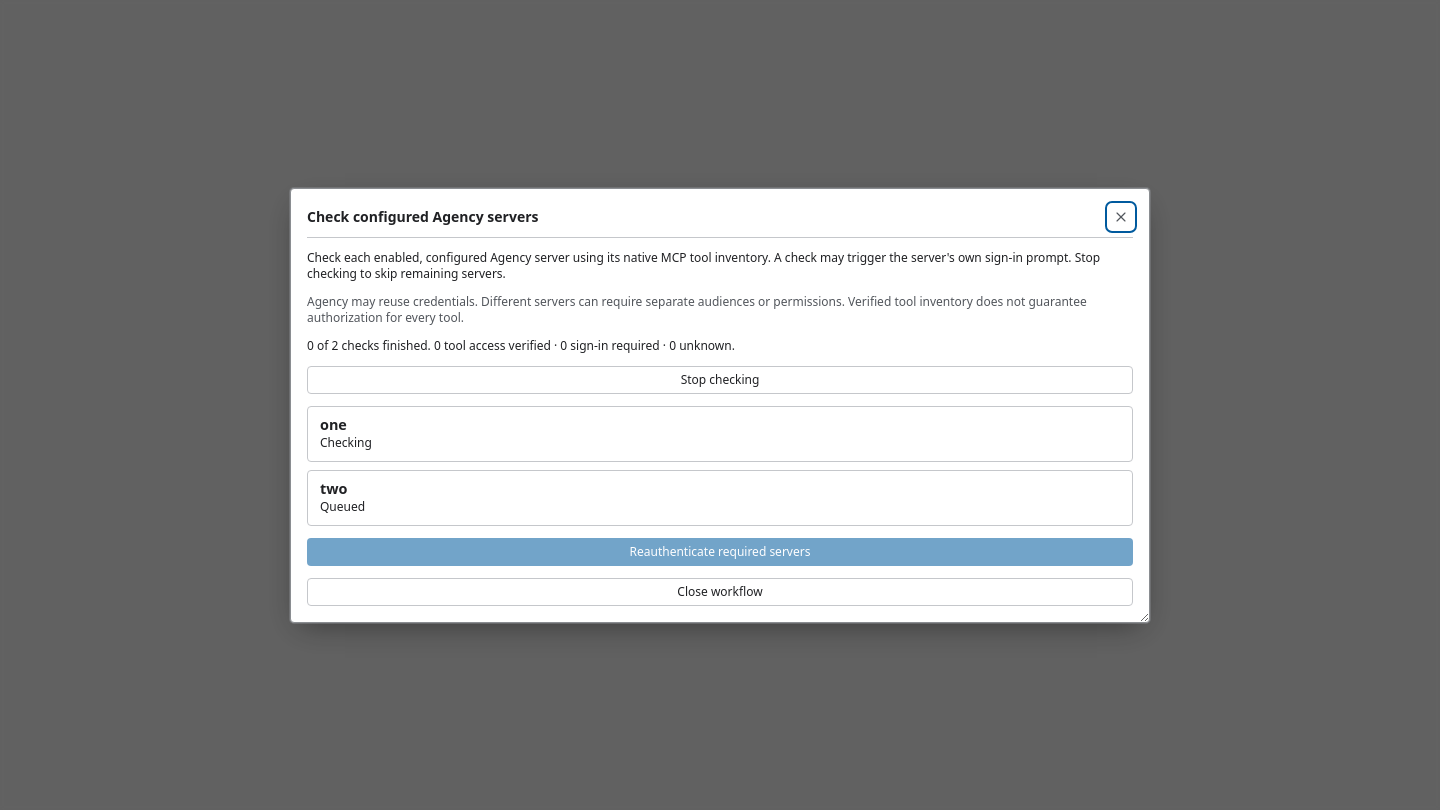
Test case: McpAuthenticationBatch › stops queued checks and ignores an in-flight result without claiming a completed check
Click the button "Stop checking": (720, 380) top-left (307, 366), bottom-right (1133, 394)
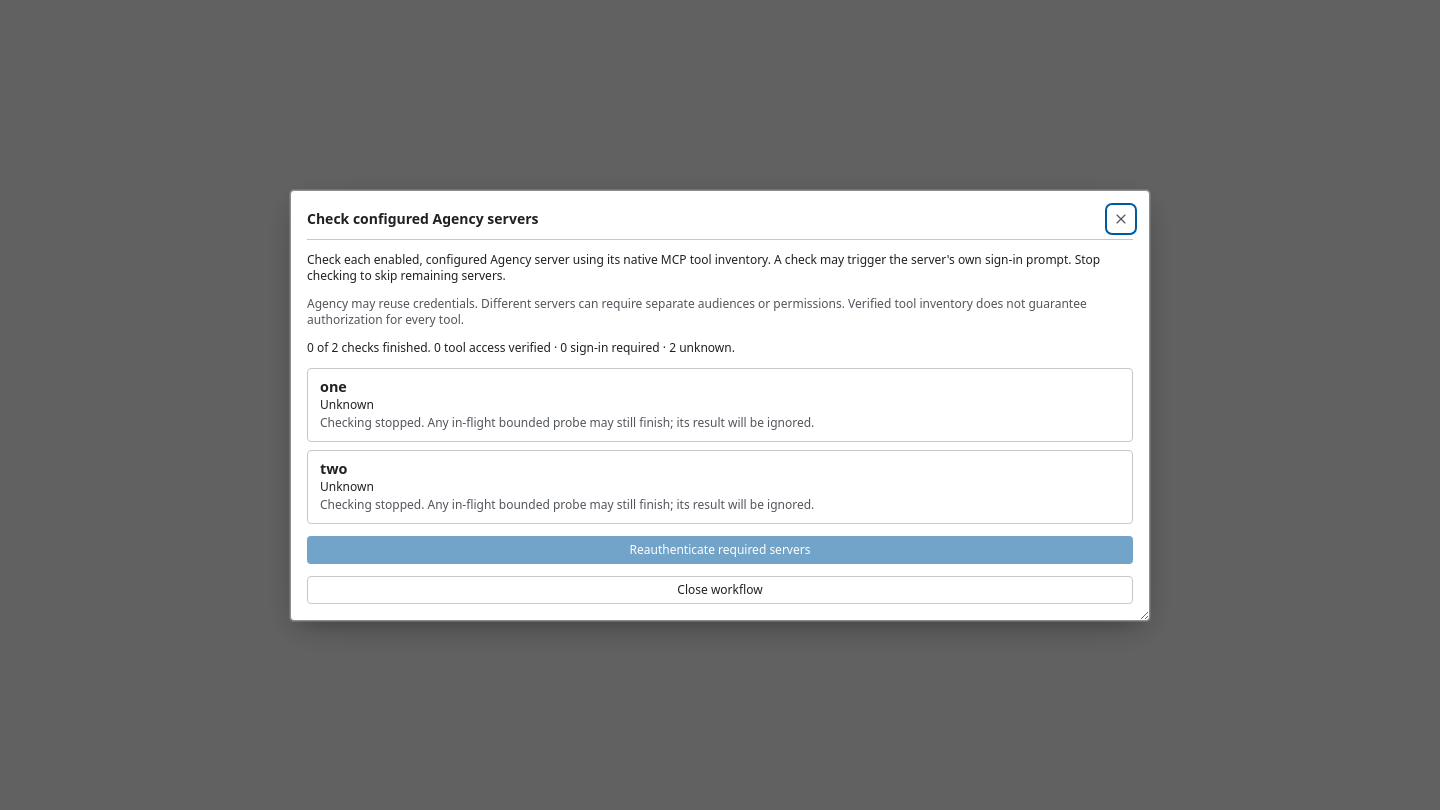
Check: the text "0 of 2 checks finished" is shown, box top-left (307, 338), bottom-right (735, 356)
Check: the list item "one" shows "Unknown", box top-left (320, 396), bottom-right (374, 412)
Check: the list item "two" shows "Unknown", box top-left (320, 478), bottom-right (374, 494)
